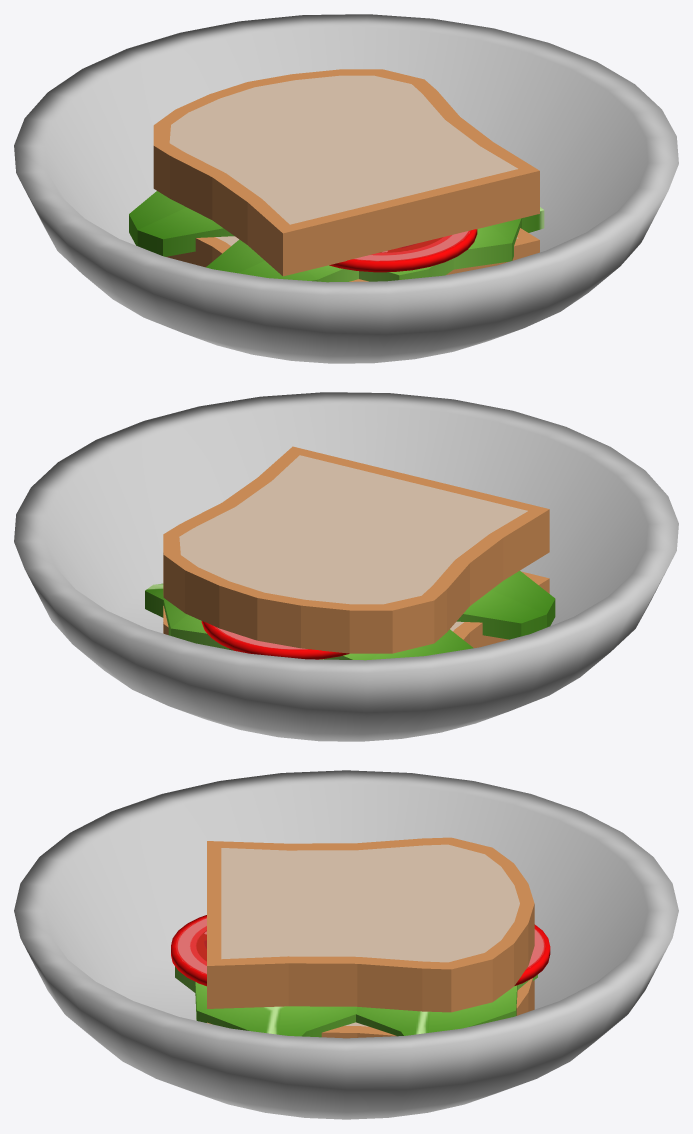
The model's file is SandwichPlate.fbx.
3 renders of one model, top to bottom at view 1: azimuth 30°, elevation 25°; view 2: azimuth 150°, elevation 25°; view 3: azimuth 270°, elevation 25°, orthographic.
Parts seen in each view (by area): view 1: SandwichPlate, SandwichBread, SandwichLettuce, SandwichTomato; view 2: SandwichPlate, SandwichBread, SandwichLettuce, SandwichTomato; view 3: SandwichPlate, SandwichBread, SandwichLettuce, SandwichTomato.
Boxes of the visible parts, x1=… form: SandwichPlate: x1=14, y1=14, x2=678, y2=363; SandwichBread: x1=153, y1=69, x2=539, y2=281; SandwichLettuce: x1=129, y1=191, x2=544, y2=282; SandwichTomato: x1=329, y1=229, x2=477, y2=272; SandwichPlate: x1=14, y1=392, x2=678, y2=741; SandwichBread: x1=163, y1=446, x2=549, y2=653; SandwichLettuce: x1=145, y1=571, x2=555, y2=660; SandwichTomato: x1=201, y1=621, x2=349, y2=659; SandwichPlate: x1=14, y1=770, x2=678, y2=1119; SandwichBread: x1=207, y1=837, x2=534, y2=1038; SandwichLettuce: x1=175, y1=966, x2=537, y2=1037; SandwichTomato: x1=171, y1=915, x2=550, y2=986.
Size of the model in its own units: 31.83 by 6.54 by 31.83.
